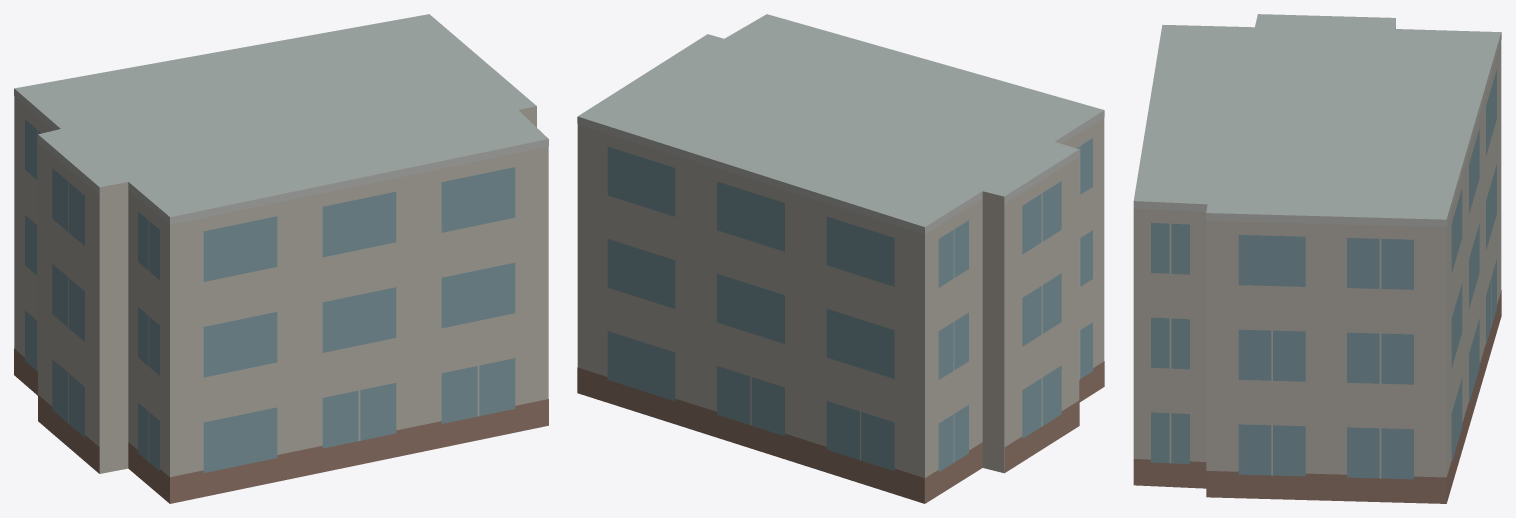
Rendered from survey-upis-32490378.glb.
3 views of the same model, side by side, from view 1: azimuth 30°, elevation 25°; view 2: azimuth 150°, elevation 25°; view 3: azimuth 270°, elevation 25° (orthographic). The views are drawn at different scales.
Visible parts, largest first — view 1: survey-upis-32490378.tmp; view 2: survey-upis-32490378.tmp; view 3: survey-upis-32490378.tmp.
Part boxes in pixels (bbox=[...]): survey-upis-32490378.tmp: bbox=[14, 14, 548, 503]; survey-upis-32490378.tmp: bbox=[577, 14, 1104, 503]; survey-upis-32490378.tmp: bbox=[1133, 14, 1501, 503].
Bounding box in the file's own units: 14.2 × 9.15 × 10.74.
